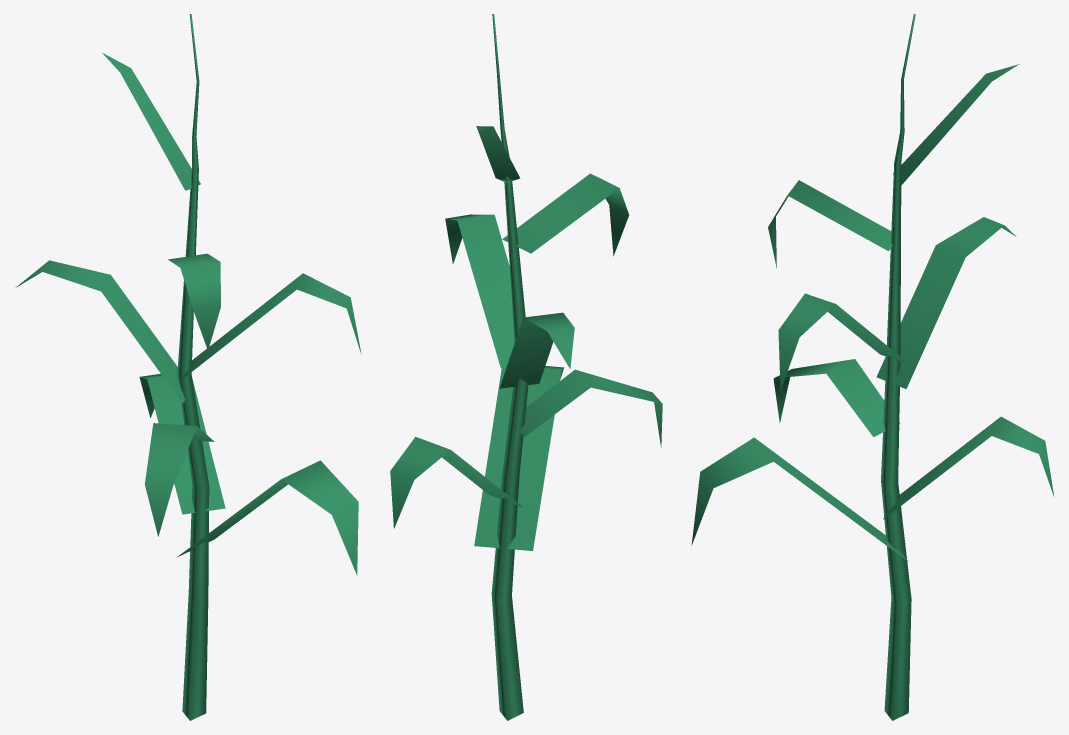
The model's file is mw_corn_plant_LOD1.FBX.
The picture shows the model from 3 angles, left to right: view 1: azimuth 30°, elevation 25°; view 2: azimuth 150°, elevation 25°; view 3: azimuth 270°, elevation 25°; orthographic projection.
Parts seen in each view (by area): view 1: mw_corn_plant_LOD1; view 2: mw_corn_plant_LOD1; view 3: mw_corn_plant_LOD1.
Part boxes in pixels (x1,y1,x2,y2): mw_corn_plant_LOD1: (15,14,361,720); mw_corn_plant_LOD1: (390,14,662,720); mw_corn_plant_LOD1: (691,14,1054,720).
Size of the model in its own units: 98.76 by 282 by 132.
